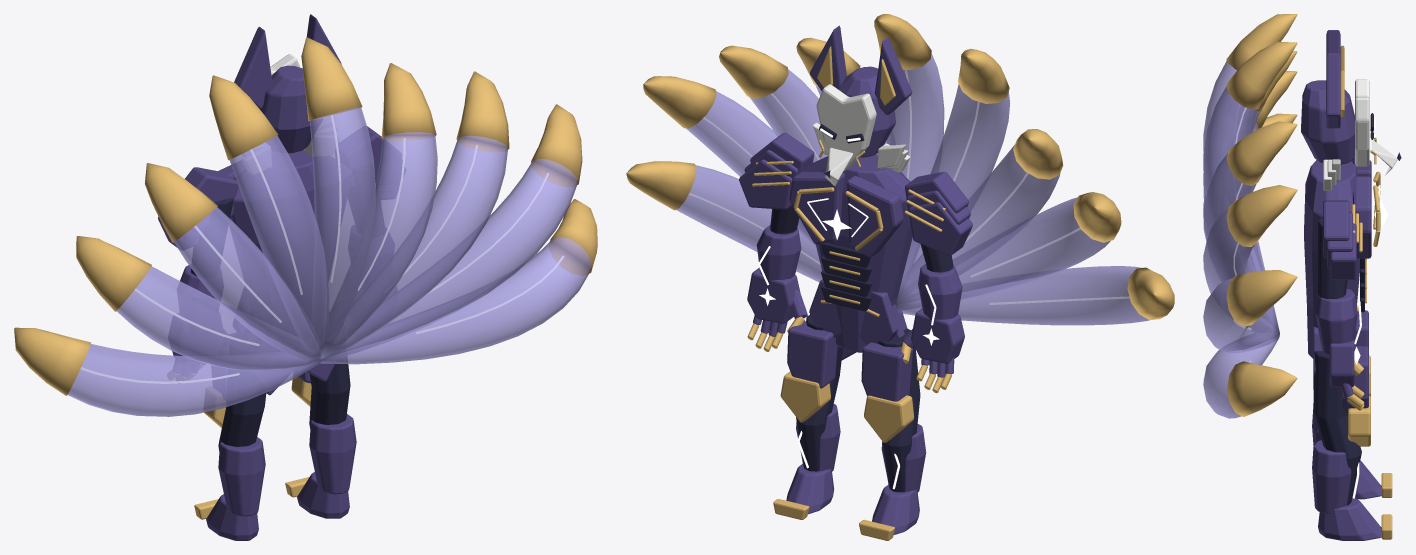
File: vaelis.glb
The picture shows the model from 3 angles, left to right: view 1: azimuth 30°, elevation 25°; view 2: azimuth 150°, elevation 25°; view 3: azimuth 270°, elevation 25°; orthographic projection. The views are drawn at different scales.
Parts seen in each view (by area): view 1: Tail7Geometry, Tail0Geometry, Tail4Geometry, Tail6Geometry, Tail8Geometry, Tail3Geometry, Tail5Geometry, Tail1Geometry, Tail2Geometry, LegRightGeometry, LegLeftGeometry, HeadGeometry (+2 smaller); view 2: BodyArmor, Tail0Geometry, ArmLeftGeometry, Tail1Geometry, HeadGeometry, ArmRightGeometry, LegLeftGeometry, LegRightGeometry, Tail2Geometry, Tail3Geometry, Tail8Geometry, Tail4Geometry (+3 smaller); view 3: LegRightGeometry, ArmRightGeometry, HeadGeometry, BodyArmor, Tail4Geometry, Tail6Geometry, Tail8Geometry, Tail7Geometry, Tail5Geometry, Tail3Geometry, LegLeftGeometry, Tail1Geometry (+2 smaller).
Part boxes in pixels (left/top/right/bottom): Tail7Geometry: left=321, top=104, right=582, bottom=362; Tail0Geometry: left=14, top=327, right=320, bottom=416; Tail4Geometry: left=301, top=37, right=375, bottom=357; Tail6Geometry: left=322, top=71, right=509, bottom=358; Tail8Geometry: left=320, top=199, right=597, bottom=364; Tail3Geometry: left=209, top=75, right=328, bottom=357; Tail5Geometry: left=321, top=63, right=437, bottom=359; Tail1Geometry: left=76, top=236, right=320, bottom=371; Tail2Geometry: left=145, top=163, right=321, bottom=359; LegRightGeometry: left=285, top=364, right=356, bottom=518; LegLeftGeometry: left=194, top=392, right=266, bottom=540; HeadGeometry: left=234, top=14, right=341, bottom=156; BodyArmor: left=789, top=154, right=912, bottom=360; Tail0Geometry: left=896, top=266, right=1174, bottom=325; ArmLeftGeometry: left=901, top=171, right=972, bottom=393; Tail1Geometry: left=897, top=192, right=1121, bottom=310; HeadGeometry: left=810, top=25, right=912, bottom=186; ArmRightGeometry: left=739, top=132, right=814, bottom=351; LegLeftGeometry: left=859, top=328, right=926, bottom=540; LegRightGeometry: left=773, top=314, right=842, bottom=519; Tail2Geometry: left=897, top=129, right=1063, bottom=302; Tail3Geometry: left=898, top=48, right=1009, bottom=297; Tail8Geometry: left=626, top=161, right=822, bottom=282; Tail4Geometry: left=874, top=14, right=944, bottom=283; LegRightGeometry: left=1312, top=346, right=1392, bottom=540; ArmRightGeometry: left=1315, top=200, right=1364, bottom=410; HeadGeometry: left=1301, top=30, right=1401, bottom=190; BodyArmor: left=1304, top=160, right=1380, bottom=389; Tail4Geometry: left=1203, top=41, right=1297, bottom=332; Tail6Geometry: left=1203, top=185, right=1297, bottom=333; Tail8Geometry: left=1203, top=332, right=1297, bottom=418; Tail7Geometry: left=1203, top=270, right=1297, bottom=352; Tail5Geometry: left=1203, top=121, right=1297, bottom=332; Tail3Geometry: left=1203, top=14, right=1297, bottom=330; LegLeftGeometry: left=1312, top=310, right=1392, bottom=499; Tail1Geometry: left=1203, top=71, right=1297, bottom=203.
Size of the model in its own units: 4.31 by 3.59 by 1.37.
